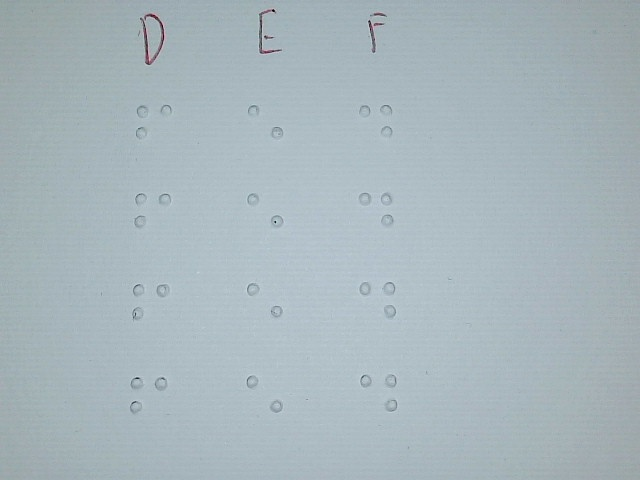D: (357, 88, 394, 160), (357, 174, 394, 246), (359, 266, 396, 338), (360, 358, 397, 430)
E: (246, 89, 285, 165), (246, 177, 285, 253), (245, 264, 284, 340), (245, 358, 284, 434)
F: (135, 89, 174, 163), (133, 177, 172, 251), (132, 266, 171, 340), (129, 360, 168, 434)
